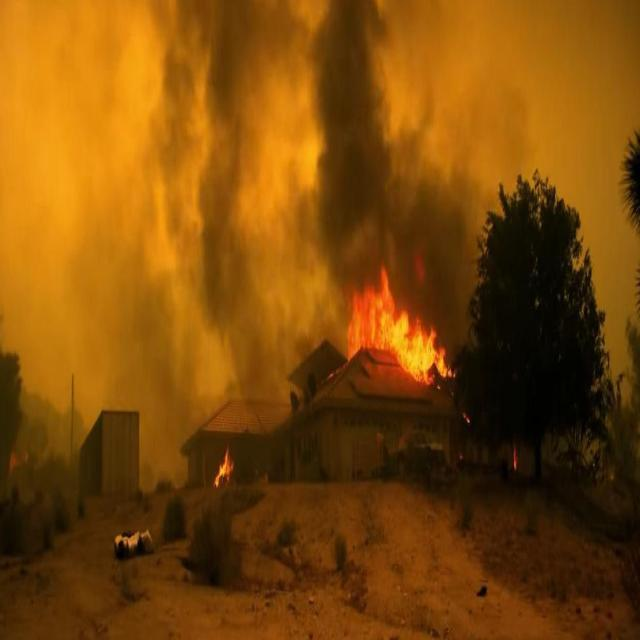Fire: (346, 262, 454, 389), (214, 449, 233, 488)
Smoke: (126, 2, 534, 426)
